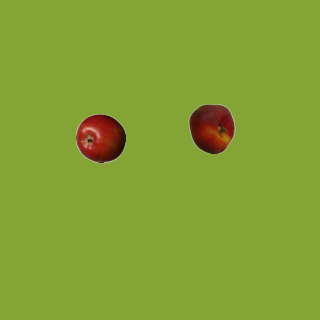Apple Braeburn: (75, 113, 125, 163)
Nectarine Flat: (186, 103, 236, 153)
